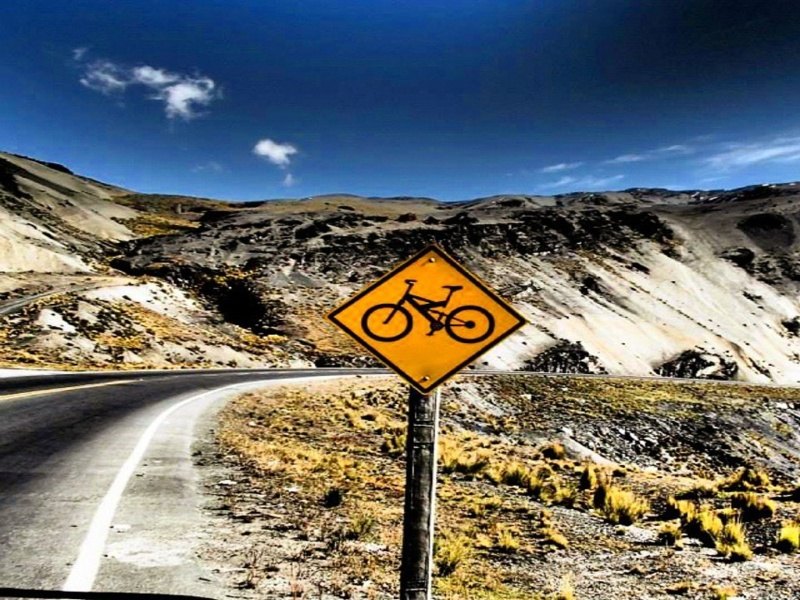cycle_route_ahead: (325, 239, 530, 402)
